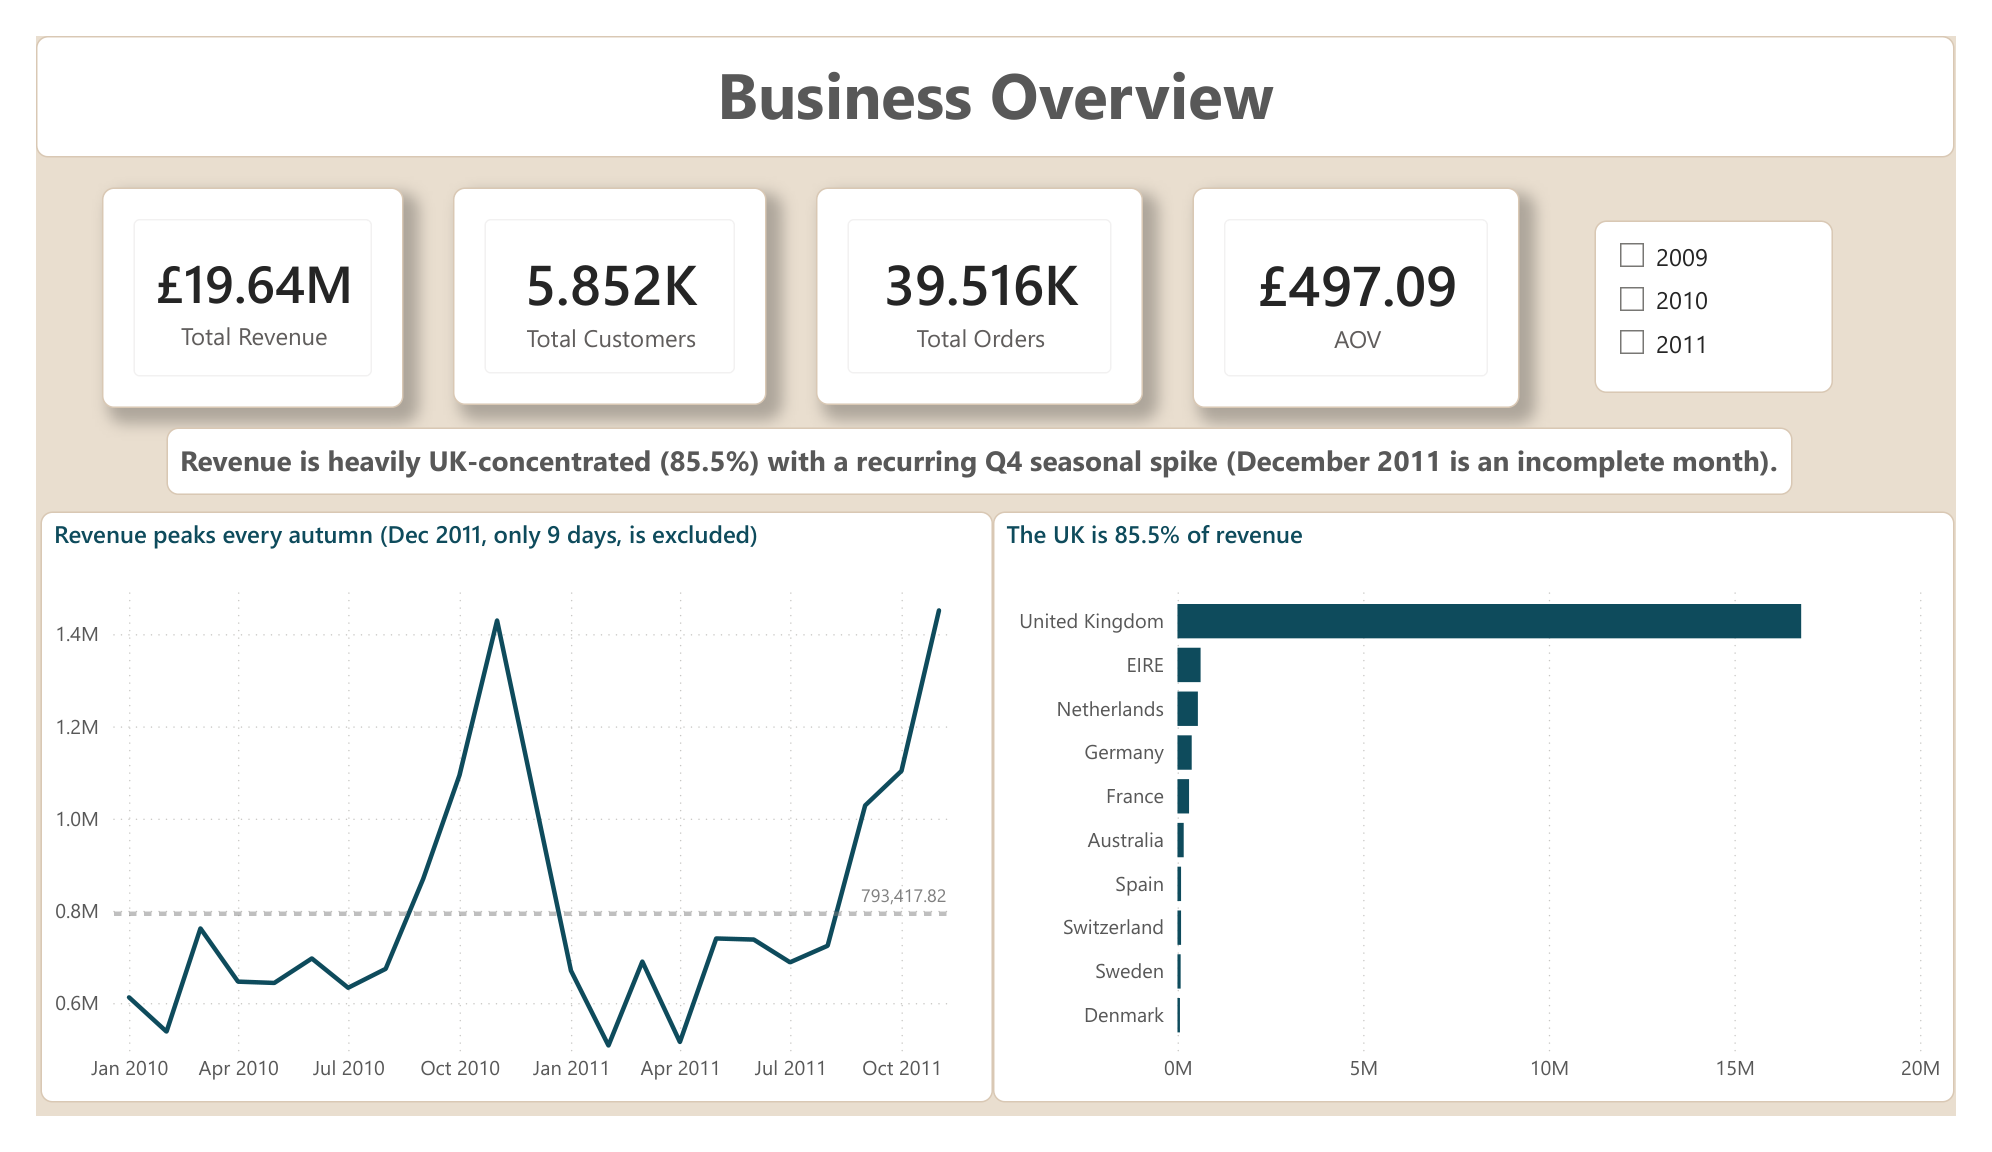

The dashboard page shown, as its layout file describes it:
{"tool":"powerbi","page":{"name":"Overview","canvas":[1280,720],"ordinal":0},"visuals":[{"type":"lineChart","title":"Revenue peaks every autumn (Dec 2011, only 9 days, is excluded)","fields":{"Category":["dim date.full_date.Variation.Date Hierarchy.Year","dim date.full_date.Variation.Date Hierarchy.Month"],"Y":["_Measures.Total Revenue"]},"box":[2.7,316.7,635.7,394.3],"z":0},{"type":"clusteredBarChart","title":"The UK is 85.5% of revenue","fields":{"Category":["rpt vw_valid_sales.country_name"],"Y":["_Measures.Total Revenue"]},"box":[638.4,316.7,640.6,394.3],"z":1000},{"type":"cardVisual","fields":{"Data":["_Measures.Total Revenue"]},"box":[43.5,100.8,201.5,146.8],"z":2000},{"type":"cardVisual","fields":{"Data":["_Measures.Total Orders"]},"box":[519.6,100.8,218.9,145.5],"z":3000},{"type":"cardVisual","fields":{"Data":["_Measures.Total Customers"]},"box":[277.8,100.8,209,145.5],"z":4000},{"type":"cardVisual","fields":{"Data":["_Measures.AOV"]},"box":[771.3,100.8,217.7,146.8],"z":5000},{"type":"slicer","title":"Year","fields":{"Values":["rpt vw_valid_sales.year"]},"box":[1039.3,122.7,158.3,115.3],"z":6000},{"type":"textbox","box":[87.1,261.2,1083.5,44.8],"z":7000},{"type":"textbox","box":[0,0,1278.5,81],"z":8000}]}

Visuals, with their boxes in screenshot pixels (x1, y1, x2, y2), scaled from the page's 1280x720 canvas onto the 1992x1152 screenshot:
"Revenue peaks every autumn (Dec 2011, only 9 days, is excluded)" lineChart: BBox(4, 507, 994, 1138)
"The UK is 85.5% of revenue" clusteredBarChart: BBox(994, 507, 1990, 1138)
cardVisual - _Measures.Total Revenue: BBox(68, 161, 381, 396)
cardVisual - _Measures.Total Orders: BBox(809, 161, 1149, 394)
cardVisual - _Measures.Total Customers: BBox(432, 161, 758, 394)
cardVisual - _Measures.AOV: BBox(1200, 161, 1539, 396)
"Year" slicer: BBox(1617, 196, 1864, 381)
textbox: BBox(136, 418, 1822, 490)
textbox: BBox(0, 0, 1990, 130)
